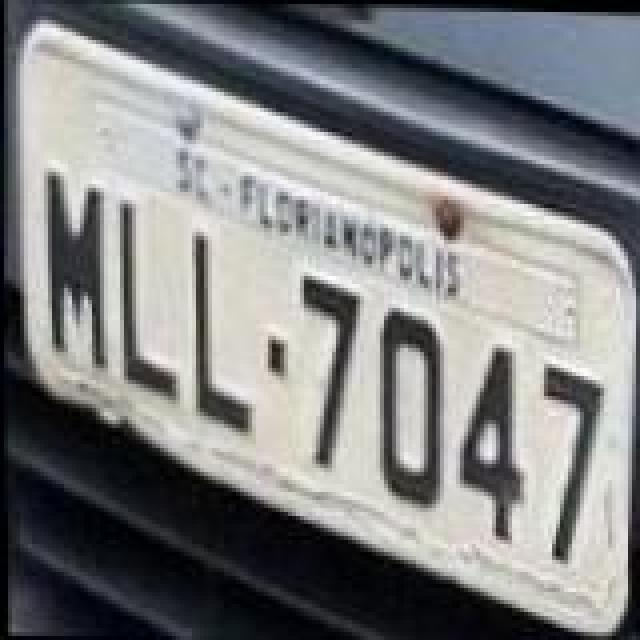4: (456, 338, 528, 542)
7: (296, 270, 368, 474), (536, 360, 608, 564)
L: (112, 198, 184, 406), (188, 226, 252, 430)
M: (40, 166, 112, 370)
O: (372, 304, 448, 508)
